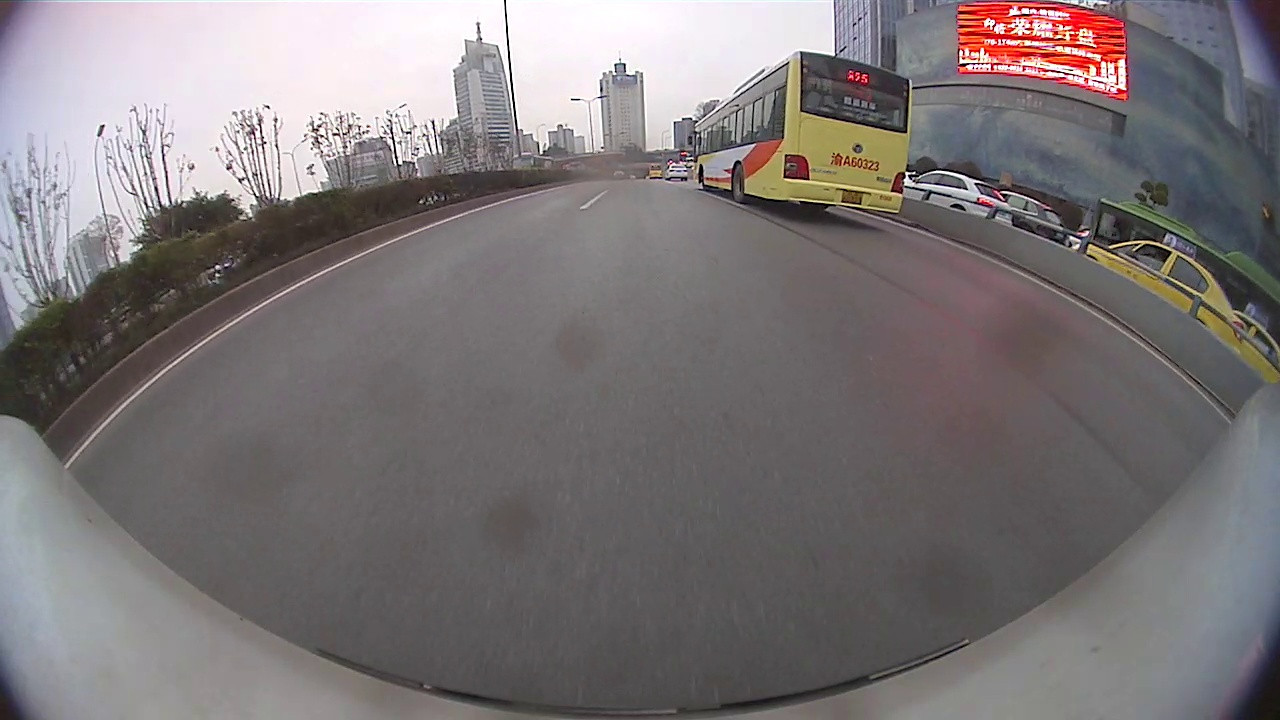bus: (685, 49, 917, 217)
car: (1071, 238, 1249, 363), (905, 168, 1017, 229), (1227, 308, 1279, 388)
rear: (726, 161, 749, 204)
